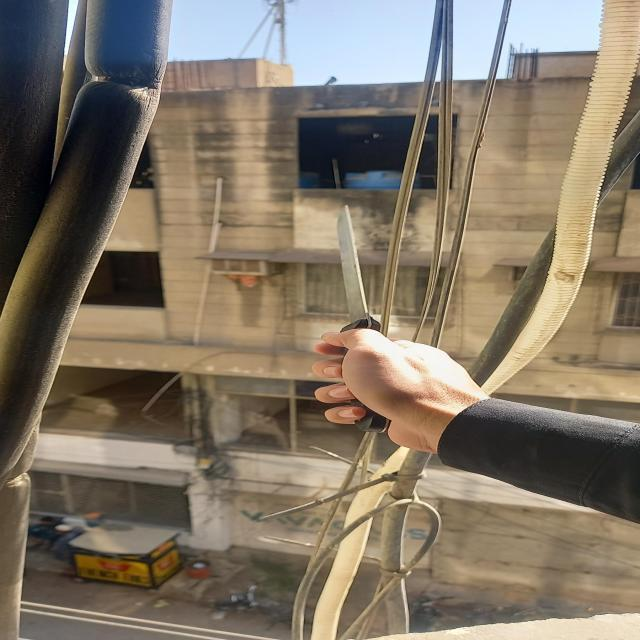Knife: (317, 201, 402, 435)
